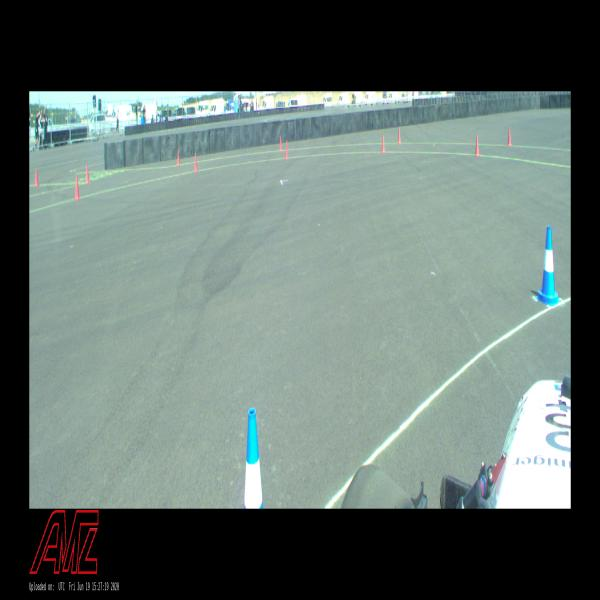blue_cone: (536, 226, 562, 306), (244, 408, 263, 508)
unknown_cone: (74, 176, 80, 200), (474, 135, 480, 157), (34, 168, 40, 187), (507, 128, 512, 146), (86, 164, 90, 183), (194, 153, 198, 172), (382, 134, 386, 153), (176, 149, 180, 165), (285, 141, 288, 159), (398, 128, 401, 143), (280, 136, 282, 150)
